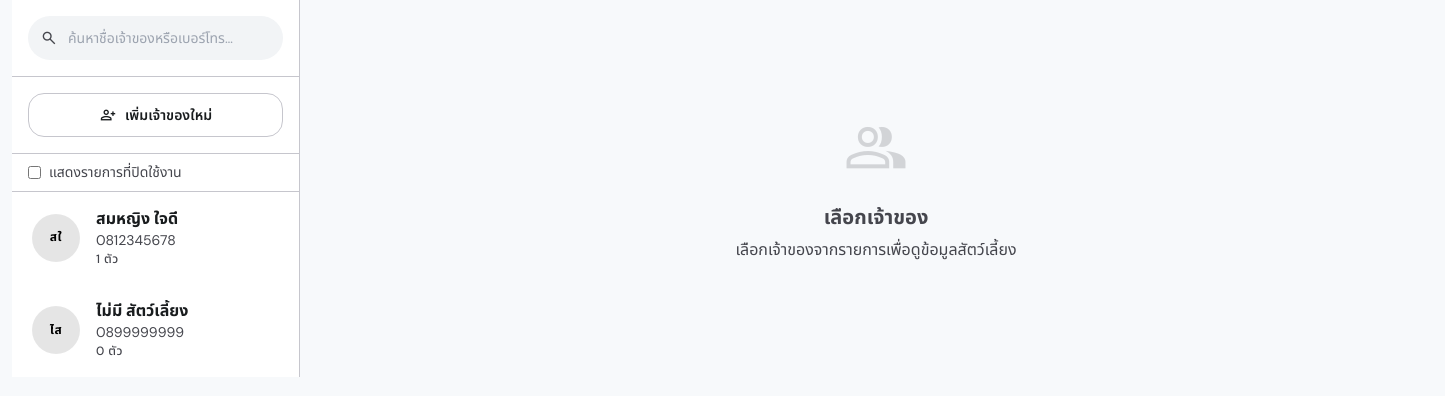
Test: ClinicPets — Thai i18n (I18N-12): owner list board states › (a) OwnerPanel shows Thai "No pets yet. Add one above." for an owner with zero pets
The image size is (1445, 396).
Click the text "ไม่มี สัตว์เลี้ยง" at (142,311), box [96, 300, 188, 322]
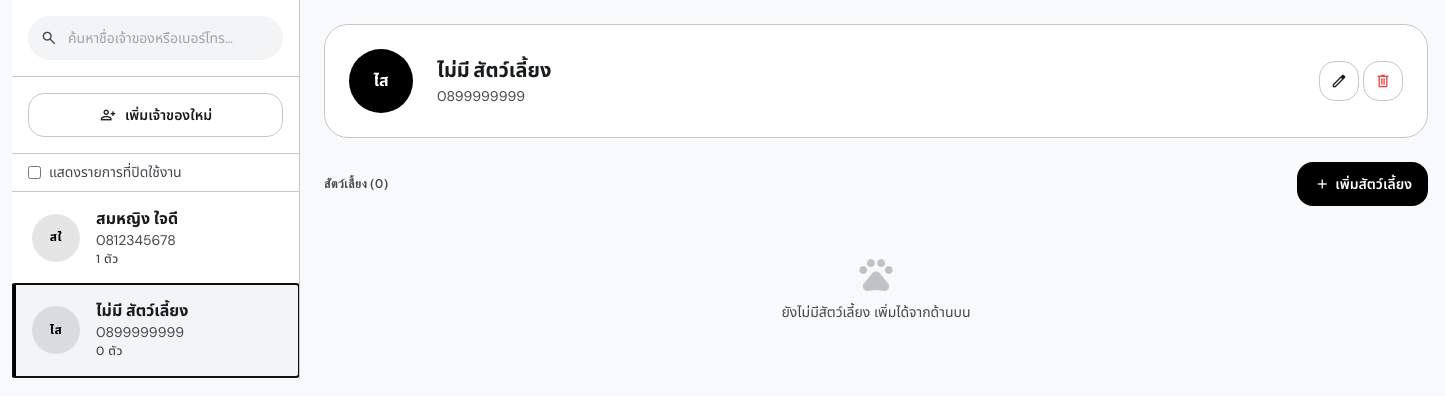
Result: the text "ยังไม่มีสัตว์เลี้ยง เพิ่มได้จากด้านบน" is shown at [782, 303, 970, 321]
